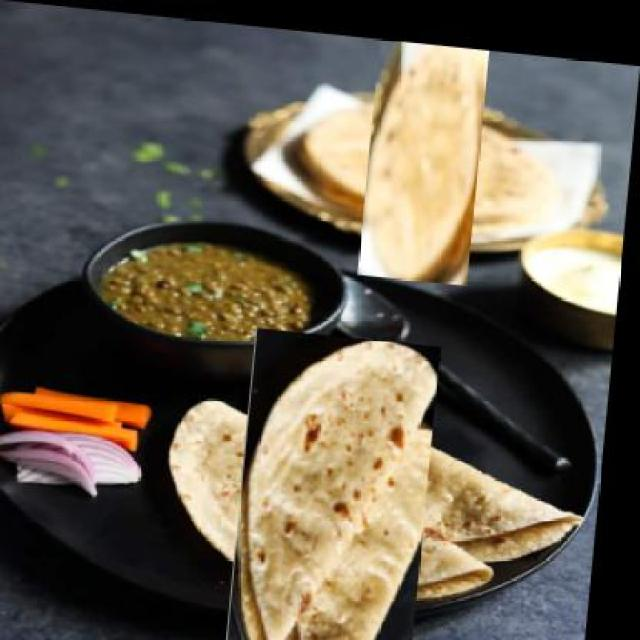chapati: (204, 356, 482, 636), (257, 368, 598, 557), (332, 57, 522, 246)
